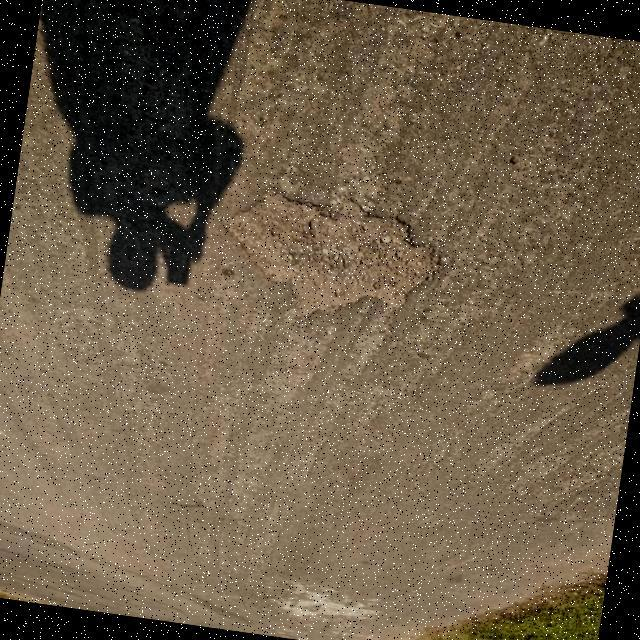Pothole: (230, 195, 433, 309)
